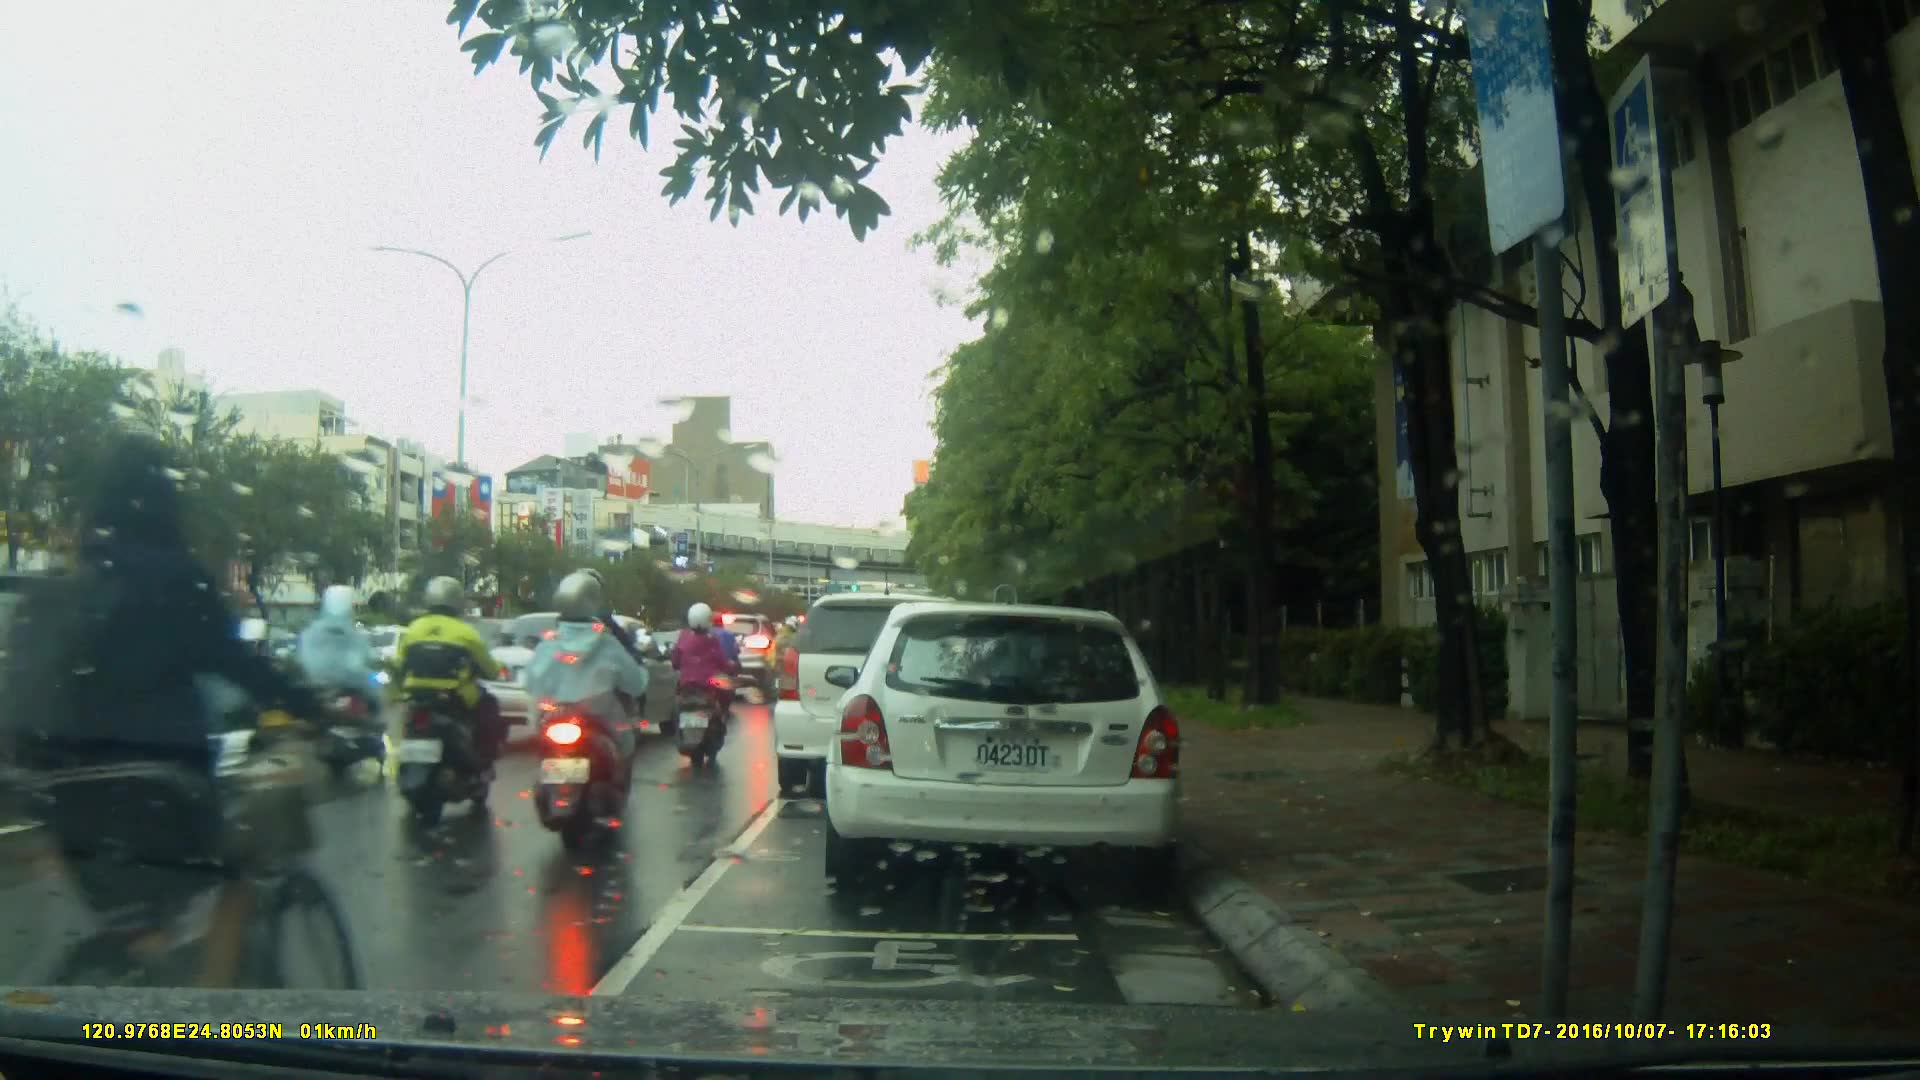rider: (50, 427, 357, 1069), (531, 569, 639, 858), (396, 573, 517, 819), (299, 578, 402, 781), (555, 570, 643, 796), (667, 605, 733, 776), (702, 610, 739, 700)
vehicle: (822, 604, 1188, 883), (774, 595, 995, 802), (477, 611, 683, 746), (684, 614, 790, 703)
